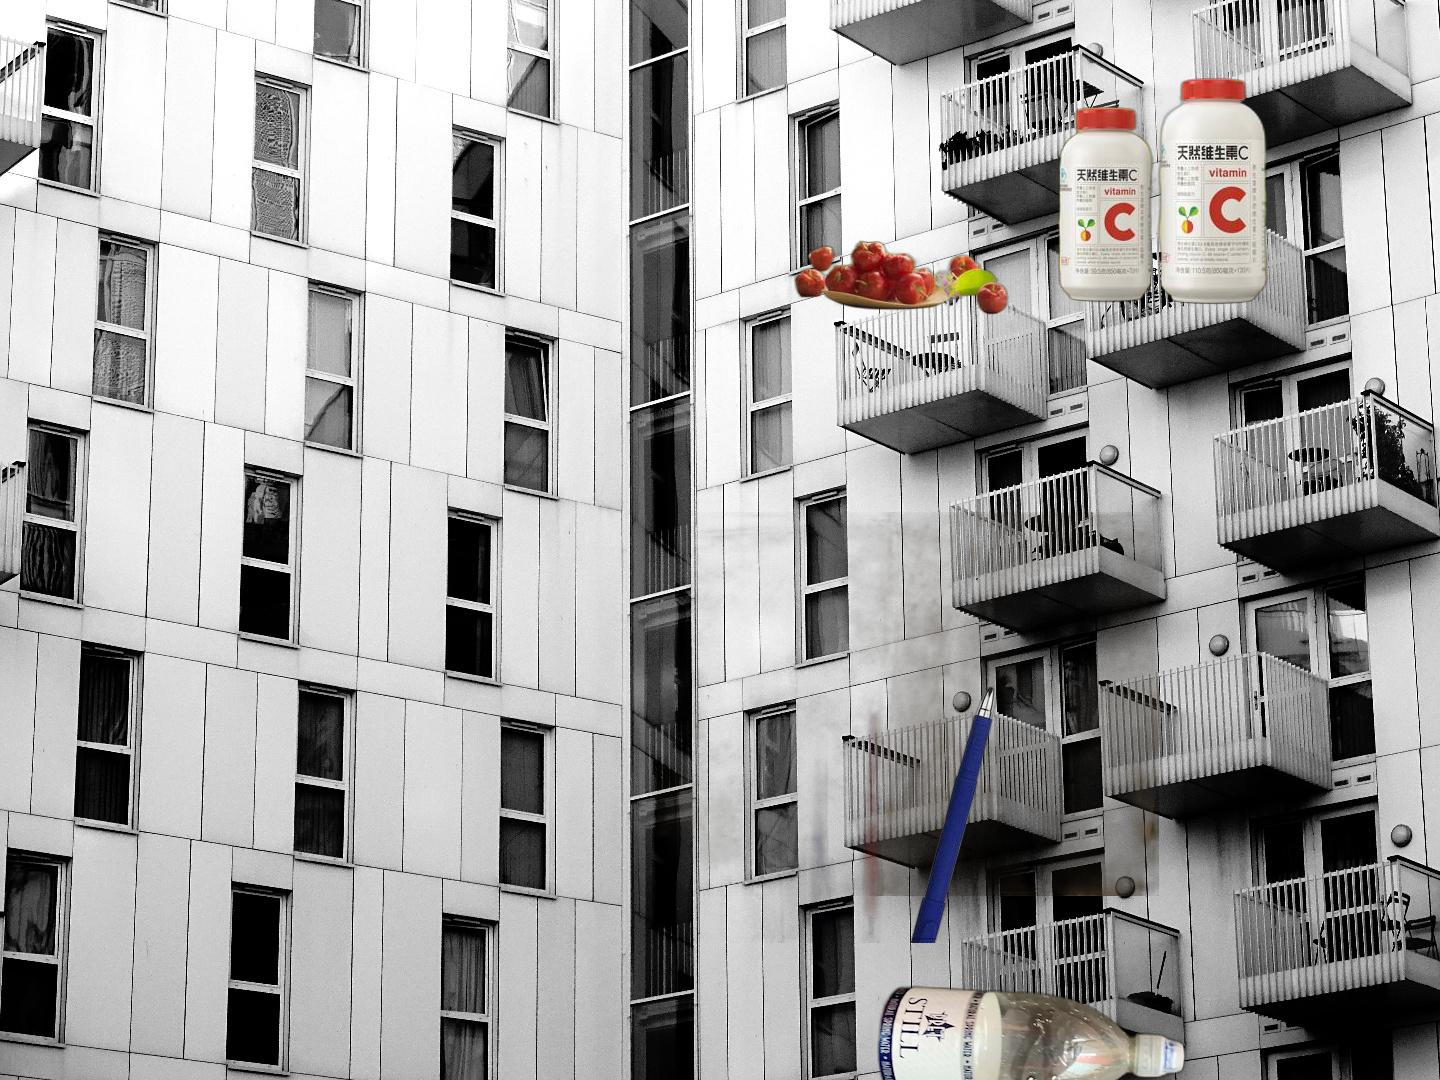biological: (789, 75, 1273, 317)
penholder: (720, 676, 1003, 943)
plastic-bottles: (857, 981, 1190, 1080)
trashbox-cardboard: (647, 512, 1159, 896)
